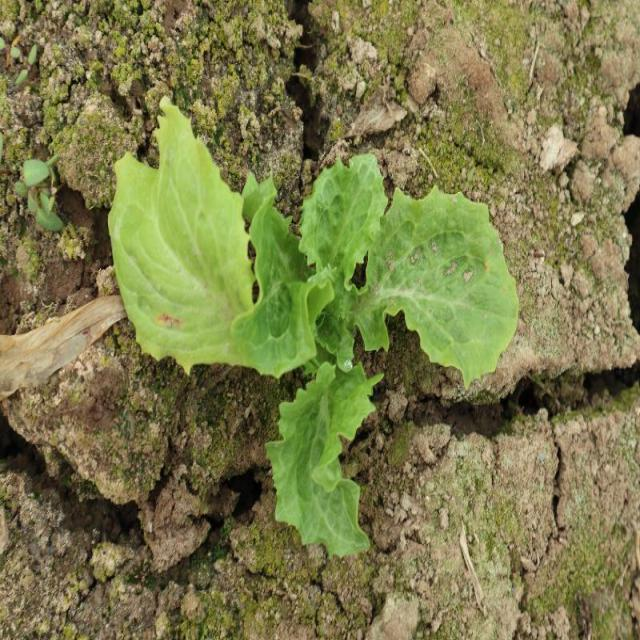crop: (107, 95, 517, 560)
